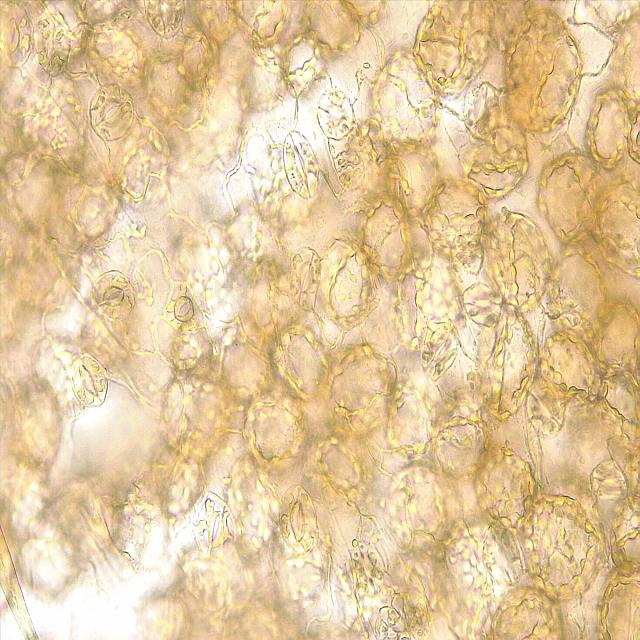Stomata: (190, 493, 237, 561), (278, 484, 319, 558), (88, 82, 135, 142), (283, 128, 322, 199), (32, 9, 73, 75), (523, 383, 571, 438), (0, 0, 34, 68), (69, 352, 109, 408), (92, 269, 134, 322), (420, 326, 460, 380), (316, 86, 355, 140), (460, 281, 503, 329), (286, 248, 322, 301), (590, 462, 629, 506), (143, 0, 186, 38), (333, 148, 365, 190)
